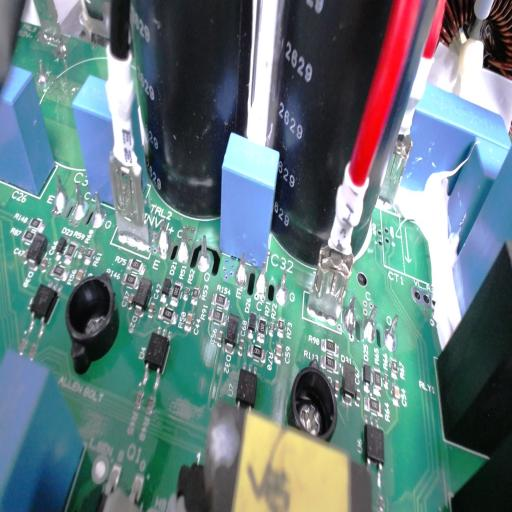pin_group: (156, 213, 215, 280), (343, 287, 401, 355), (234, 246, 291, 312), (52, 168, 110, 231)
solder_ball: (177, 224, 193, 267), (53, 173, 69, 215), (197, 232, 213, 274), (364, 303, 380, 345), (383, 313, 400, 352), (344, 292, 358, 339), (90, 190, 107, 228), (157, 216, 172, 258), (255, 258, 270, 298), (71, 186, 89, 219), (236, 252, 252, 288), (276, 269, 290, 309)
